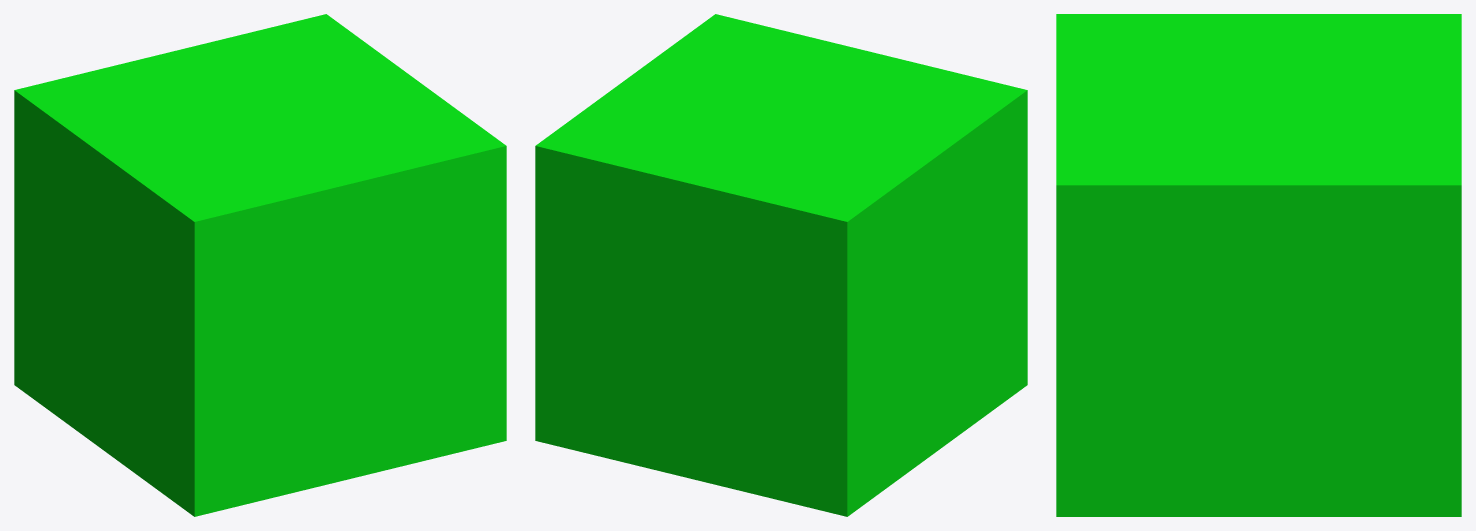
Rendered from SlidingFloor.fbx.
3 renders of one model, left to right at view 1: azimuth 30°, elevation 25°; view 2: azimuth 150°, elevation 25°; view 3: azimuth 270°, elevation 25°, orthographic. The views are drawn at different scales.
Parts seen in each view (by area): view 1: Floor_high; view 2: Floor_high; view 3: Floor_high.
Boxes of the visible parts, x1,y1,x2,y2 form: Floor_high: (14, 14, 506, 516); Floor_high: (535, 14, 1027, 516); Floor_high: (1056, 14, 1461, 516).
Bounding box in the file's own units: 39.37 × 35.55 × 39.37.
